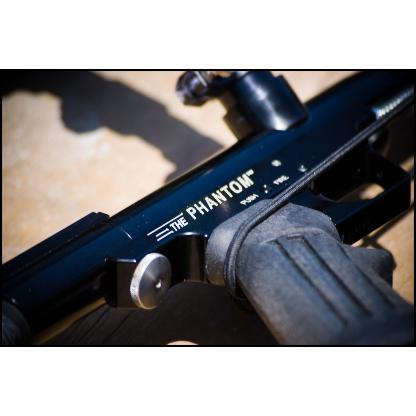gun: (0, 69, 415, 346)
